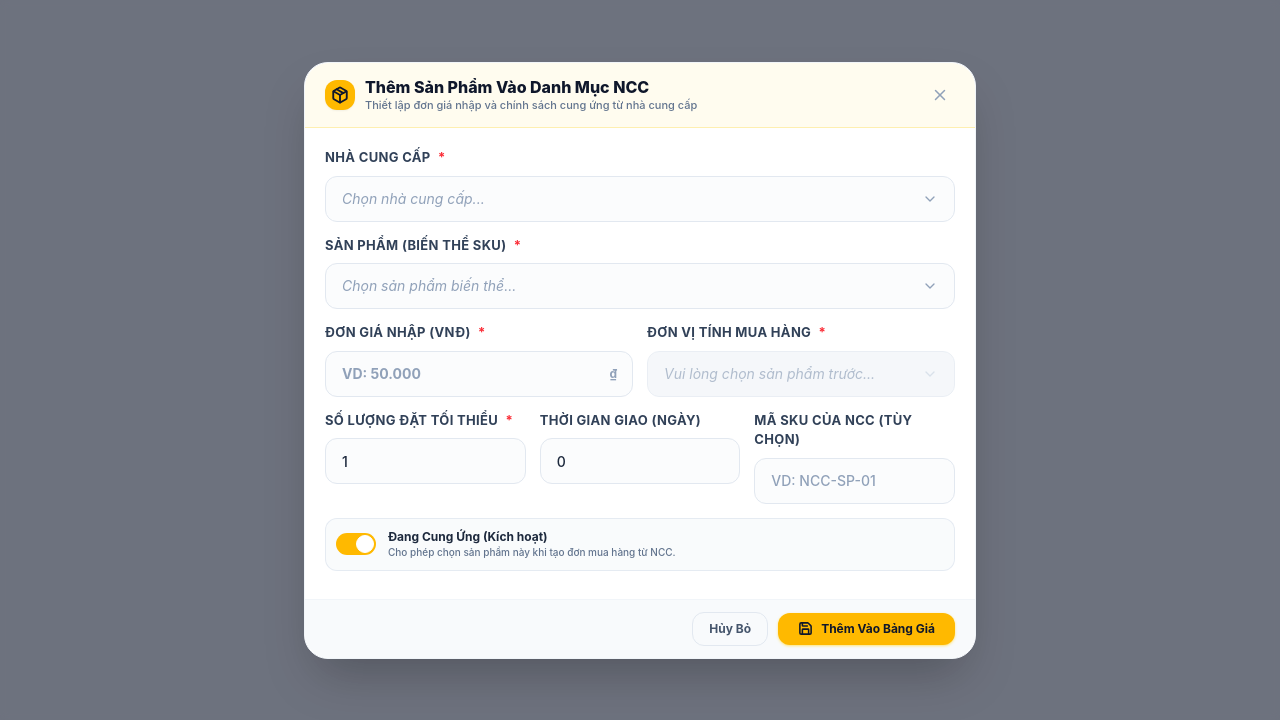
ModalSupplierProduct Component › TC02 - Tự động nhận diện ĐVT và khóa cứng Đơn vị tính mua hàng khi chọn Sản phẩm biến thể
The image size is (1280, 720).
Note: Mở dropdown chọn biến thể
Click the text "Chọn sản phẩm biến thể...".
click(429, 286)  # box [342,276,516,296]
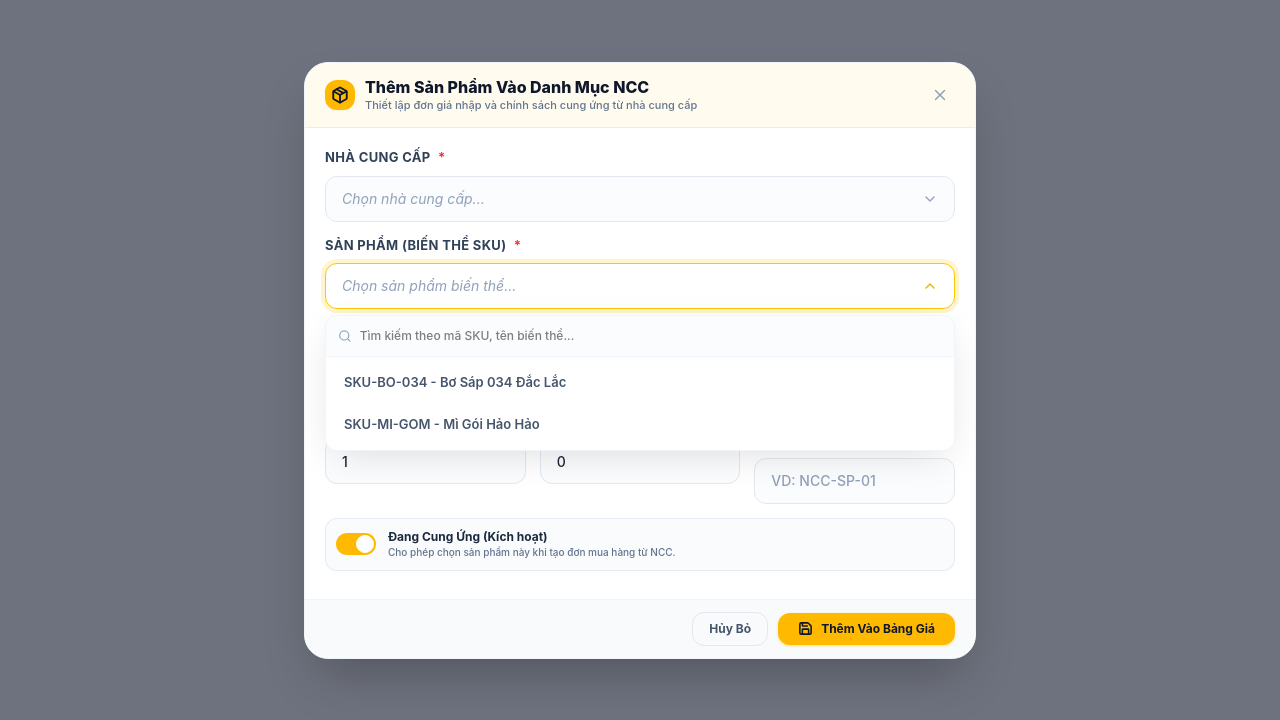
Check: the text "SKU-BO-034 - Bơ Sáp 034 Đắc Lắc" is shown
Click the text "SKU-BO-034 - Bơ Sáp 034 Đắc Lắc".
click(455, 382)  # box [344,374,566,390]
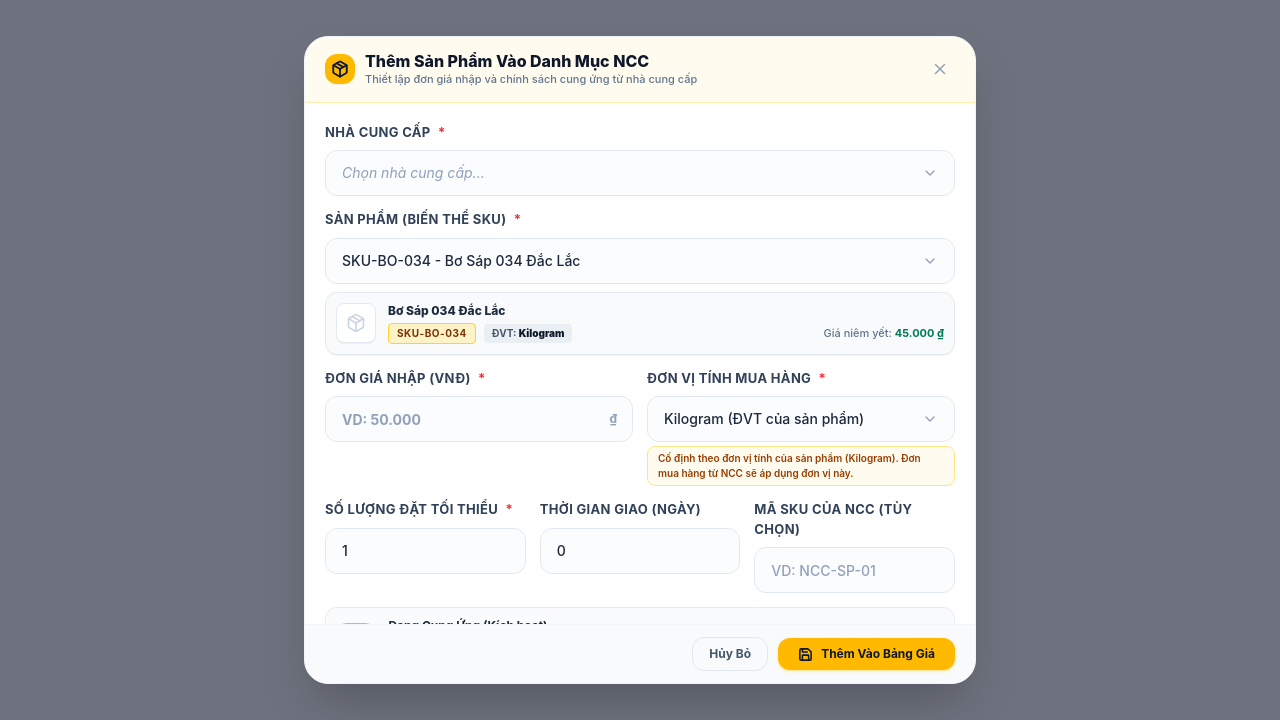
Check: the text "SKU-BO-034" is shown, box [388,322,476,344]
Check: the text "Bơ Sáp 034 Đắc Lắc" is shown, box [388,302,505,318]
Check: the text "Cố định theo đơn vị tính của sản phẩm" is shown, box [658,452,921,479]
